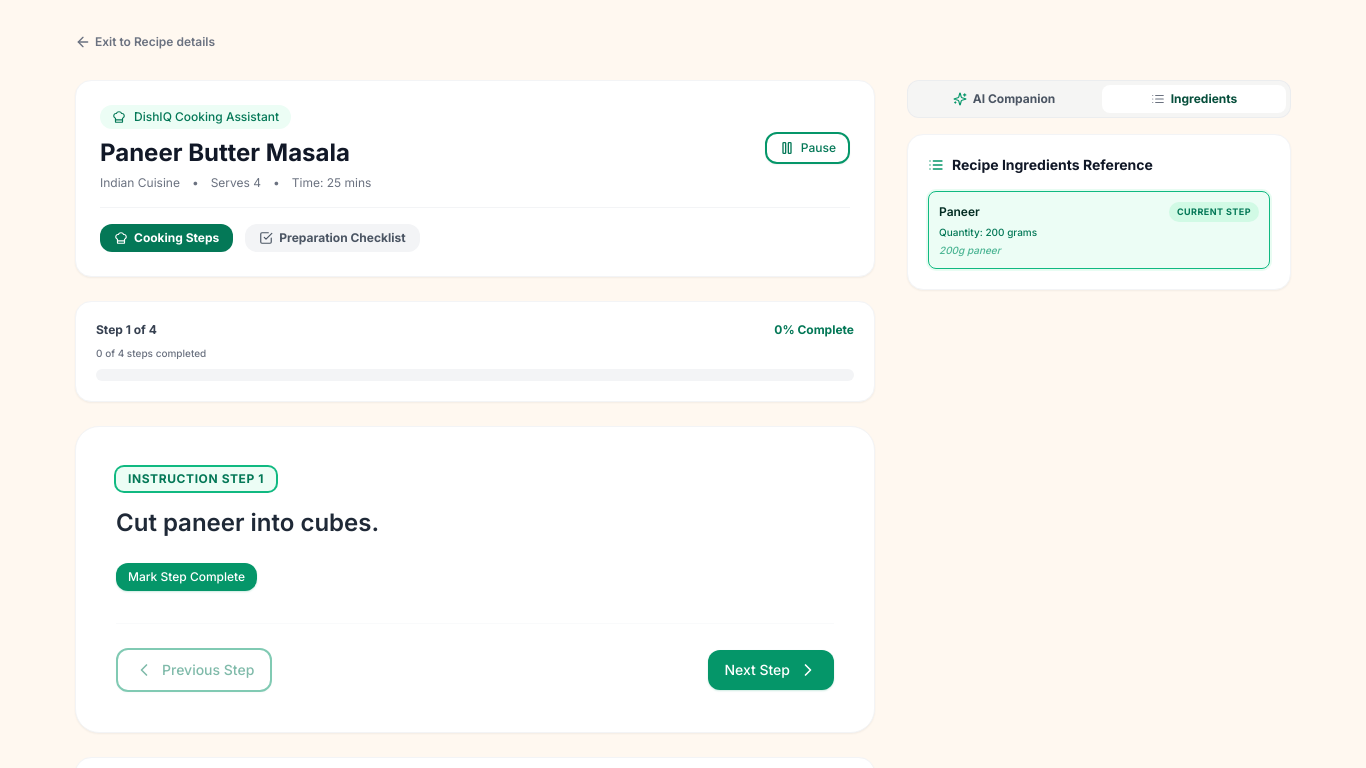
Test: CookingPage - Advanced Navigation & Progress (9.4) › Cooking Step Completion Checklist › 4. Completed step displays a checkmark in the timeline progress list
Mark first step complete
What coordinates should you click on to do the following:
click the button "Mark Step Complete"
I would click on:
 (187, 577)
Its box is [116,563,257,591].
(page scrolled)
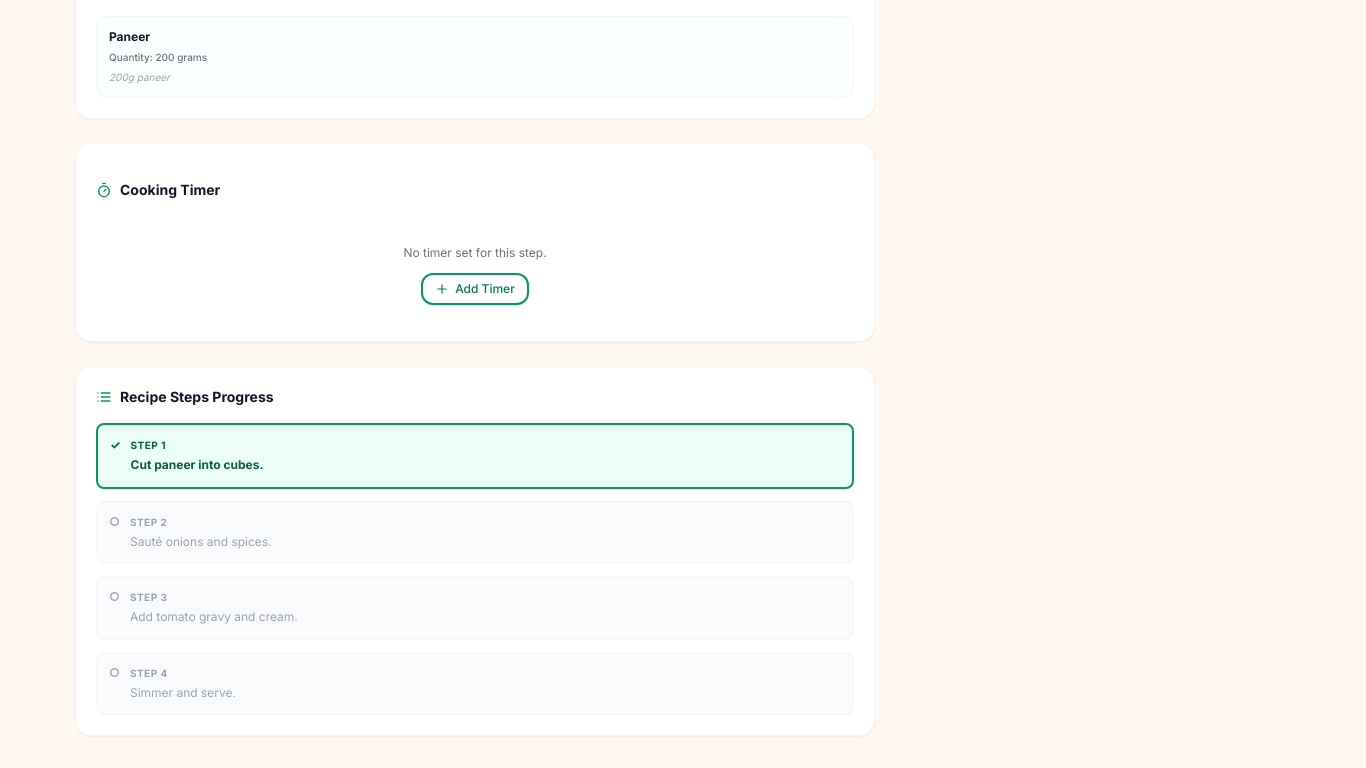
Expected: the list item with aria-label "Step 1 of 4, current step, completed" is shown, [96,423,854,488]
